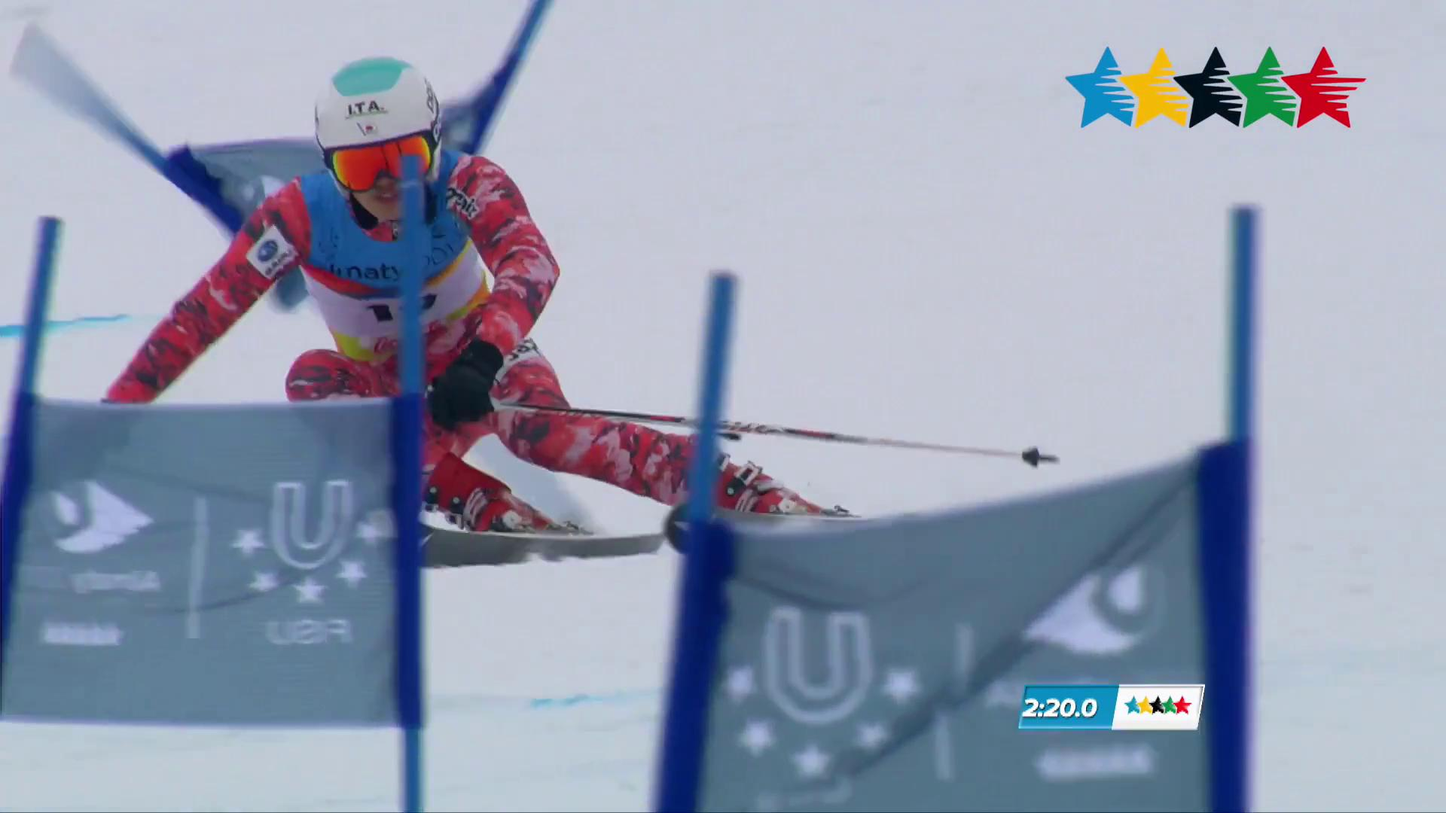gate: (654, 272, 737, 812), (1198, 206, 1256, 812), (390, 282, 424, 812), (12, 216, 62, 428), (404, 160, 421, 224), (5, 438, 21, 474)
